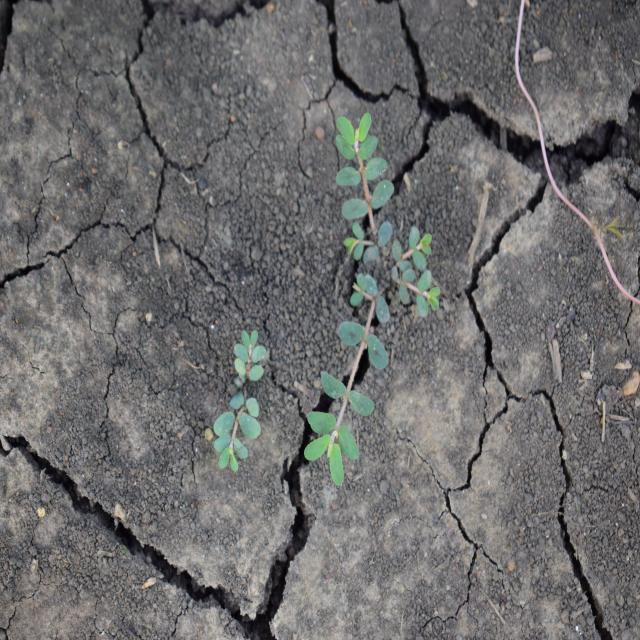SpottedSpurge: (303, 110, 442, 488), (211, 326, 270, 474)
